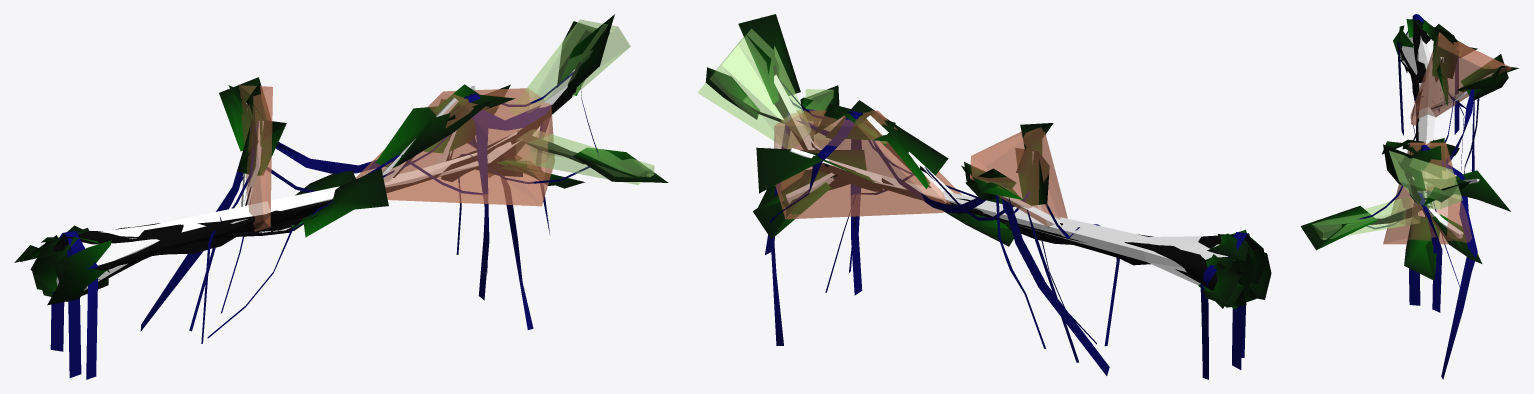
The model's file is tro_tree_1_fallen.dae.
3 renders of one model, left to right at view 1: azimuth 30°, elevation 25°; view 2: azimuth 150°, elevation 25°; view 3: azimuth 270°, elevation 25°, orthographic. The views are drawn at different scales.
Parts seen in each view (by area): view 1: Colmesh-1, tree_oak_large_b280, tree_oak_large_b800, tree_oak_large_b100; view 2: Colmesh-1, tree_oak_large_b280, tree_oak_large_b800, tree_oak_large_b100; view 3: Colmesh-1, tree_oak_large_b280, tree_oak_large_b800, tree_oak_large_b100.
Boxes of the visible parts, x1,y1,x2,y2 form: Colmesh-1: [62, 19, 654, 289]; tree_oak_large_b280: [15, 21, 647, 379]; tree_oak_large_b800: [14, 14, 668, 378]; tree_oak_large_b100: [56, 69, 574, 290]; Colmesh-1: [698, 16, 1249, 290]; tree_oak_large_b280: [705, 15, 1271, 379]; tree_oak_large_b800: [707, 14, 1270, 377]; tree_oak_large_b100: [774, 75, 1234, 284]; Colmesh-1: [1312, 16, 1512, 244]; tree_oak_large_b280: [1301, 14, 1517, 379]; tree_oak_large_b800: [1301, 15, 1518, 376]; tree_oak_large_b100: [1400, 33, 1462, 205].
Size of the model in its own units: 29.36 by 12.18 by 15.36.
